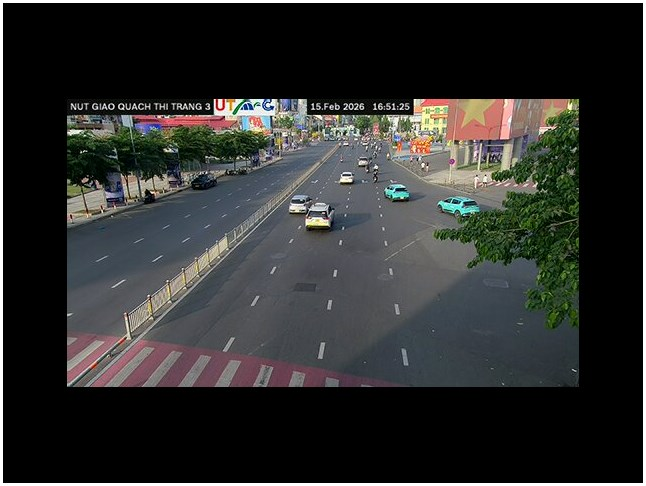car: (438, 197, 481, 217), (304, 203, 334, 230), (384, 182, 410, 202), (289, 194, 313, 214), (191, 172, 217, 190), (339, 171, 354, 184), (356, 156, 370, 169)
